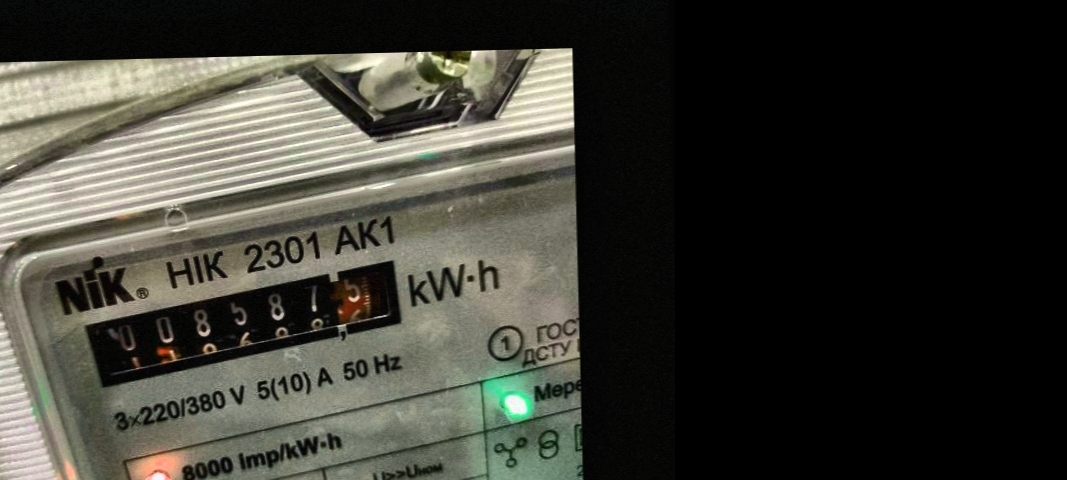0: (151, 310, 178, 344), (113, 318, 140, 351)
5: (227, 295, 250, 326), (340, 270, 363, 301)
6: (346, 305, 364, 322)
7: (301, 280, 324, 314)
8: (190, 305, 215, 337), (263, 288, 287, 321)
screen: (75, 257, 425, 388)
